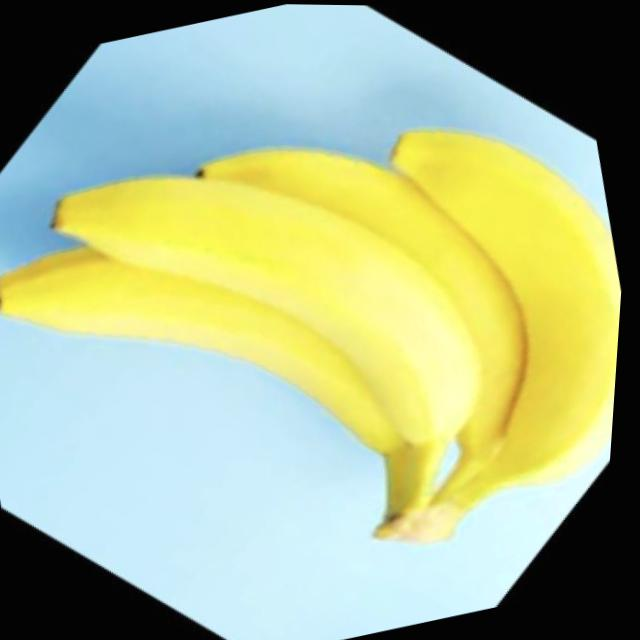Banana: (0, 70, 636, 634)
